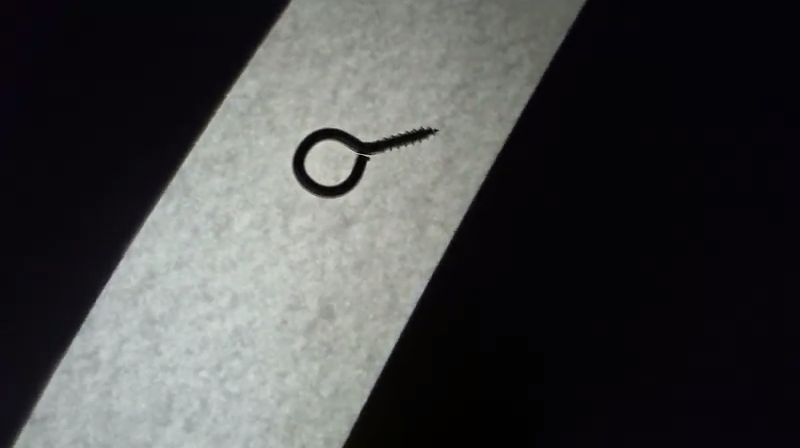O001: (289, 124, 442, 198)
